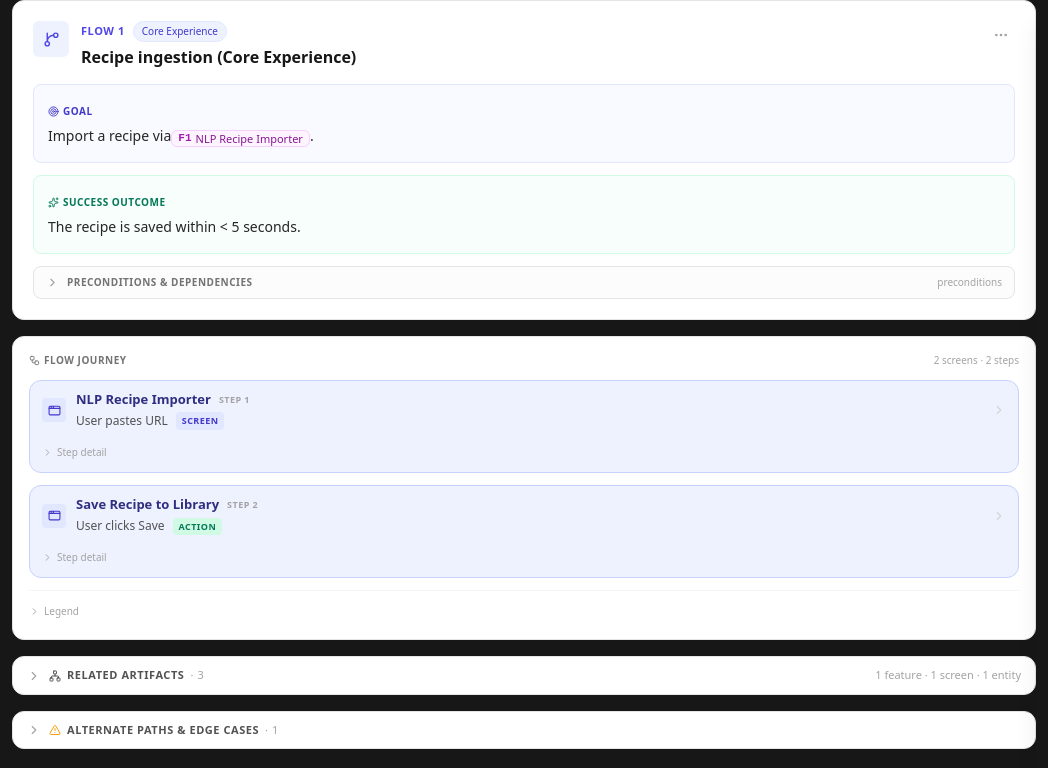
UserFlowsRenderer — desktop cleanup › keeps Related Artifacts collapsed by default and reveals it on toggle
The width and height of the screenshot is (1048, 768).
Check: the text "Data entities" is not shown
Click the button "Related artifacts · 3 1 feature · 1 screen · 1 entity" at (126, 675), box [13, 657, 1035, 694]
(page scrolled)
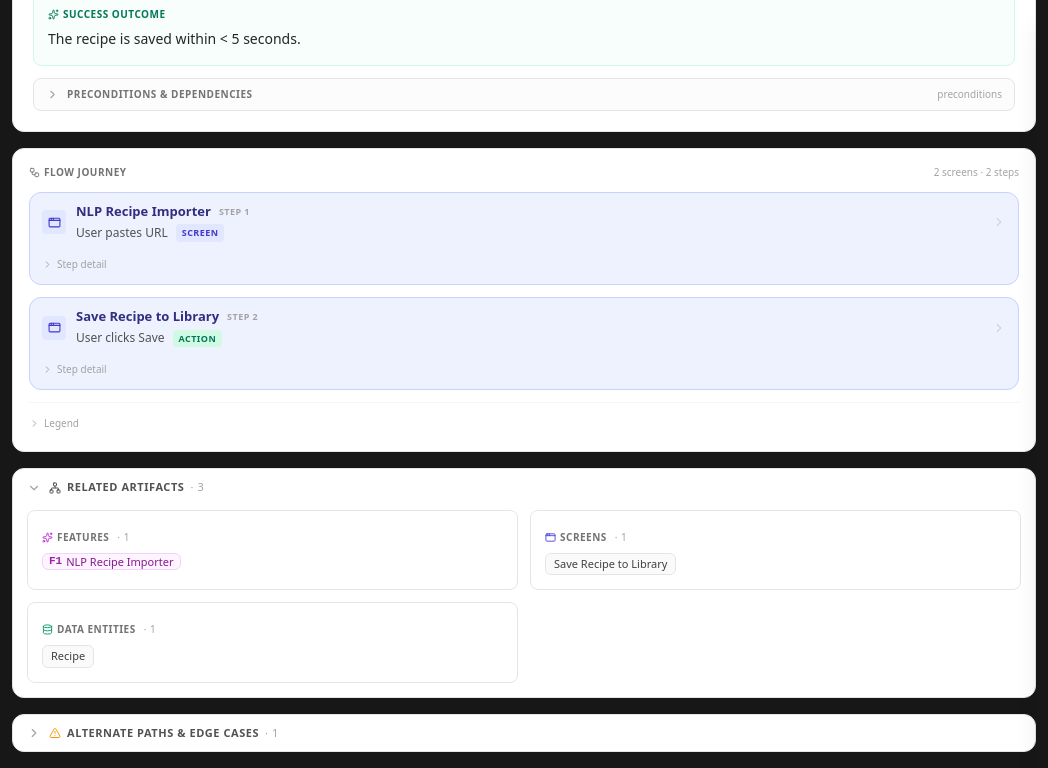
Check: the button "Related artifacts · 3" is expanded, box [13, 469, 1035, 506]
Check: the text "Data entities" is shown, box [57, 622, 136, 637]
